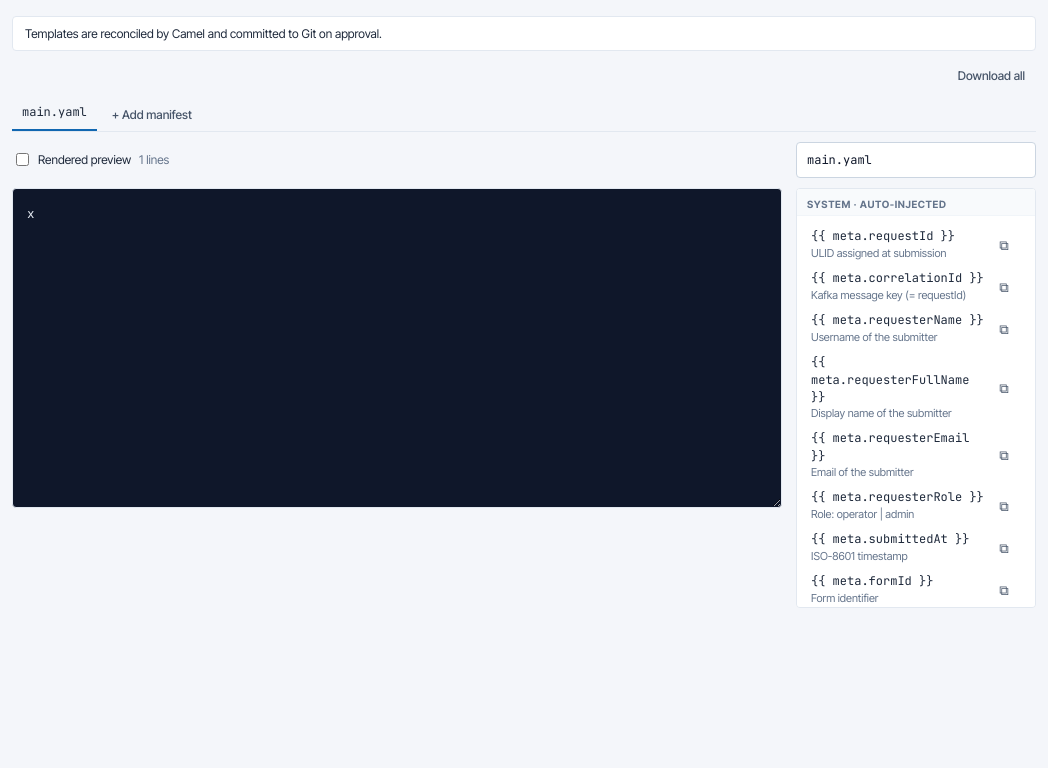
Test: TemplateEditor › renaming the active file updates the inner tab label
The width and height of the screenshot is (1048, 768).
Replace the text in the field named "active file name" with "nodepool.yaml" at (916, 160), box [796,142,1036,178]
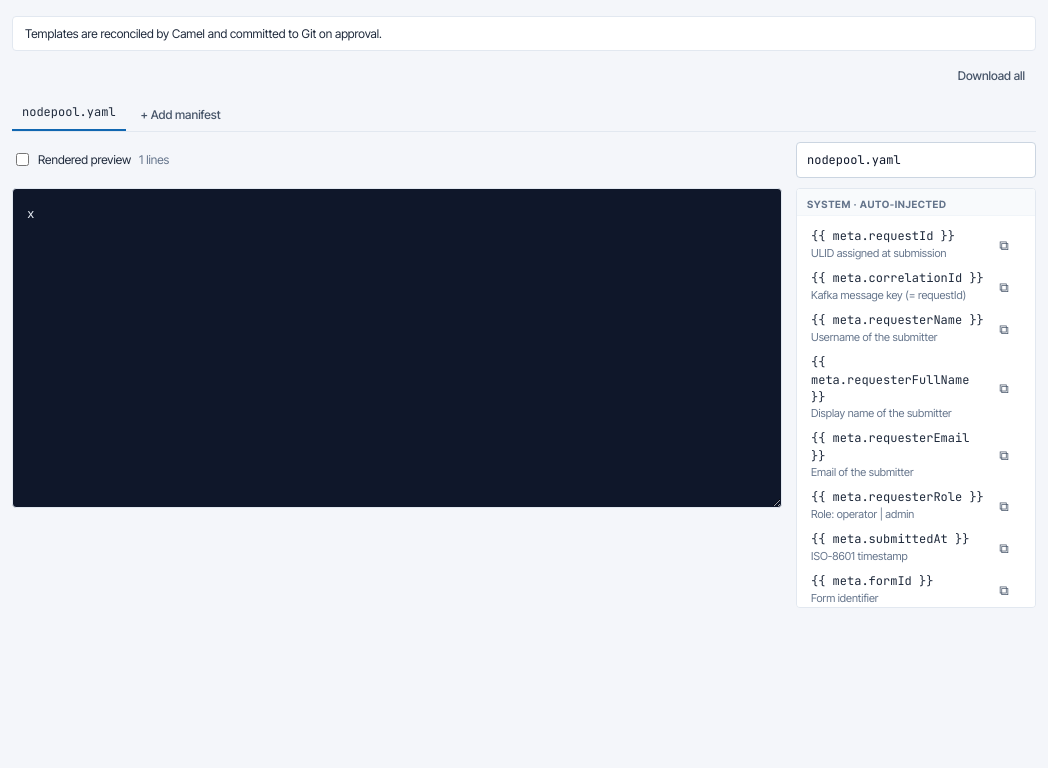
Expected: the tab with test id "template-tab-nodepool.yaml" is shown, [22,104,116,122]
